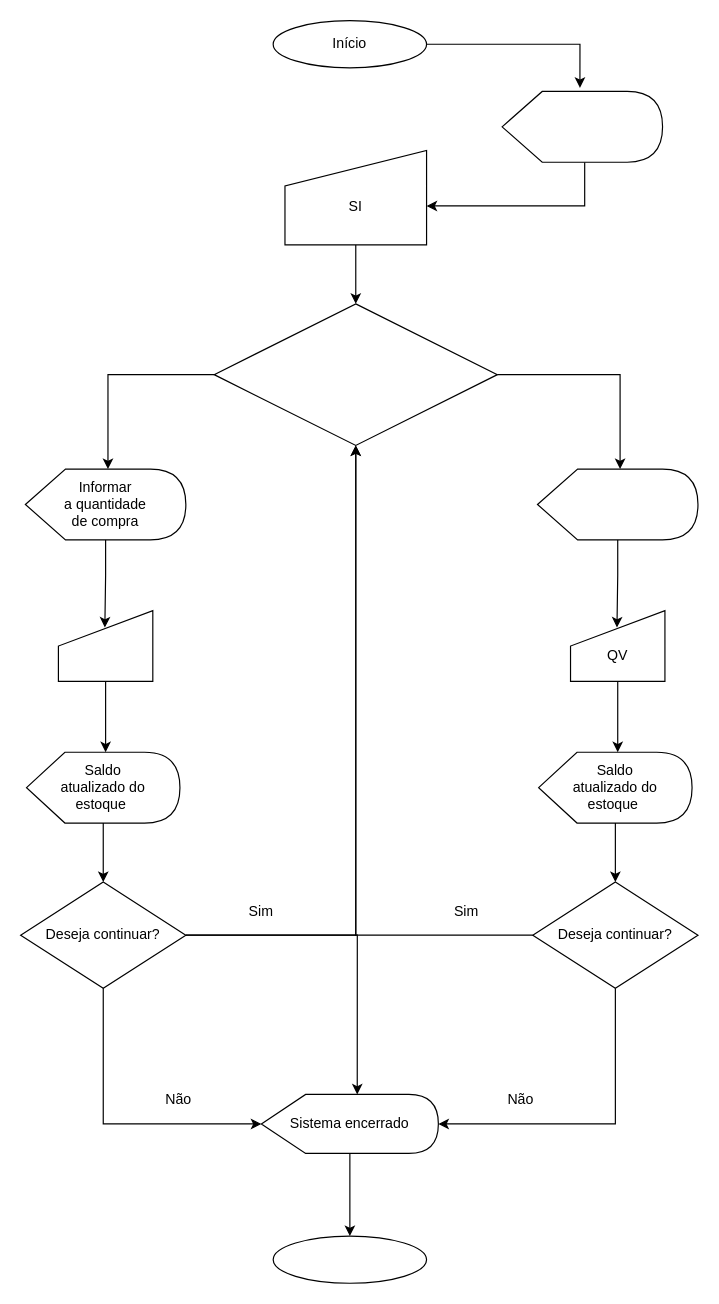
The diagram is 719 pixels wide and 1304 high, and some of its shapes have lost their labels. Each missing label, with the box of its shape:
Comprar (1) ou Vender (2): (213, 303, 497, 445)
Fim: (272, 1235, 427, 1283)
Informar a quantidade de venda: (536, 468, 698, 540)
Informar o saldo inicial da peça: (501, 90, 663, 162)
QC: (57, 609, 153, 681)
